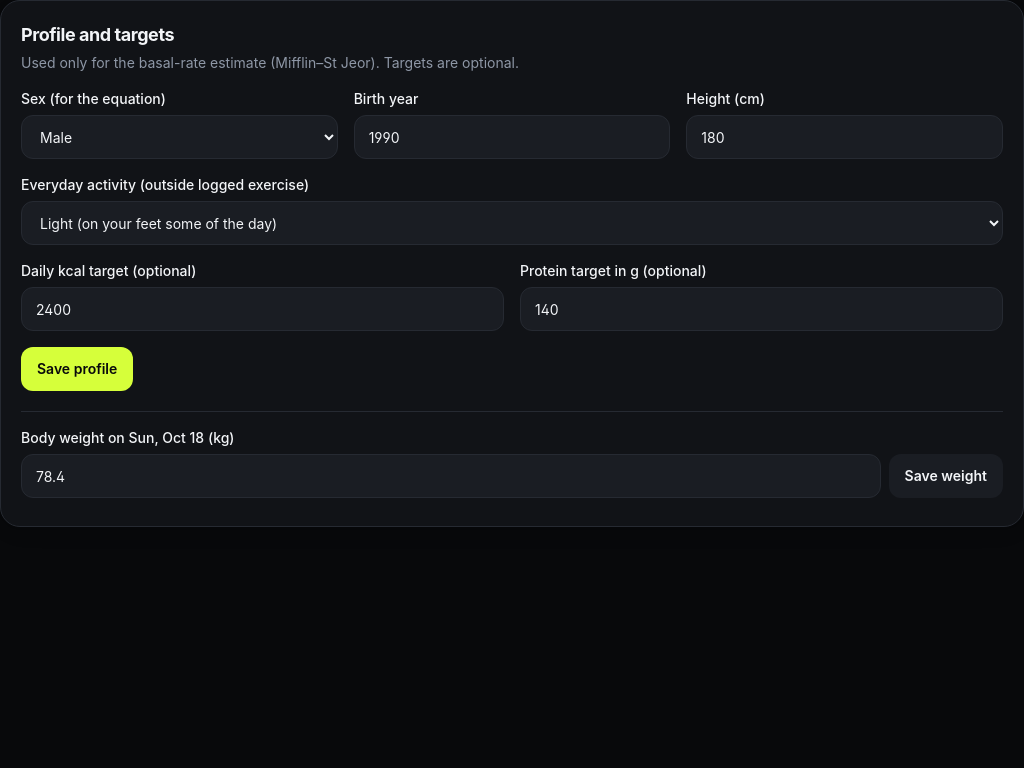
profile form › shows the below-BMR note as information and keeps the target
Replace the text in the field labelled "Daily kcal target (optional)" with "1500" at (262,309), box [21,287,504,331]
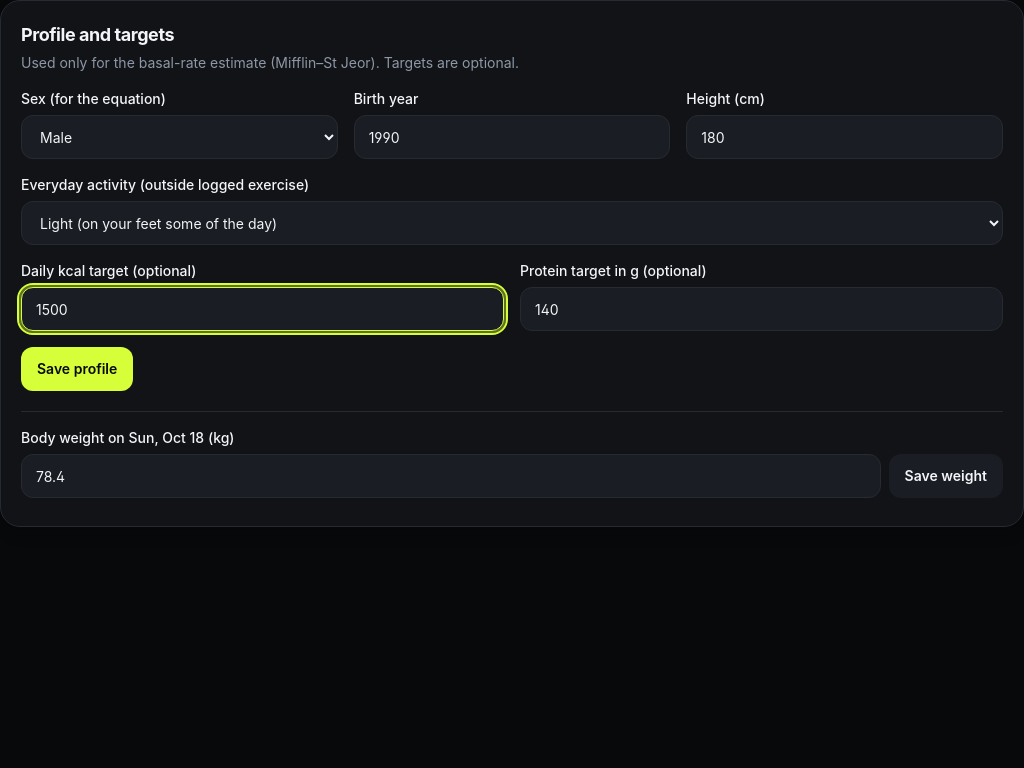
Click the button "Save profile" at (77,369), box [21,347,133,391]
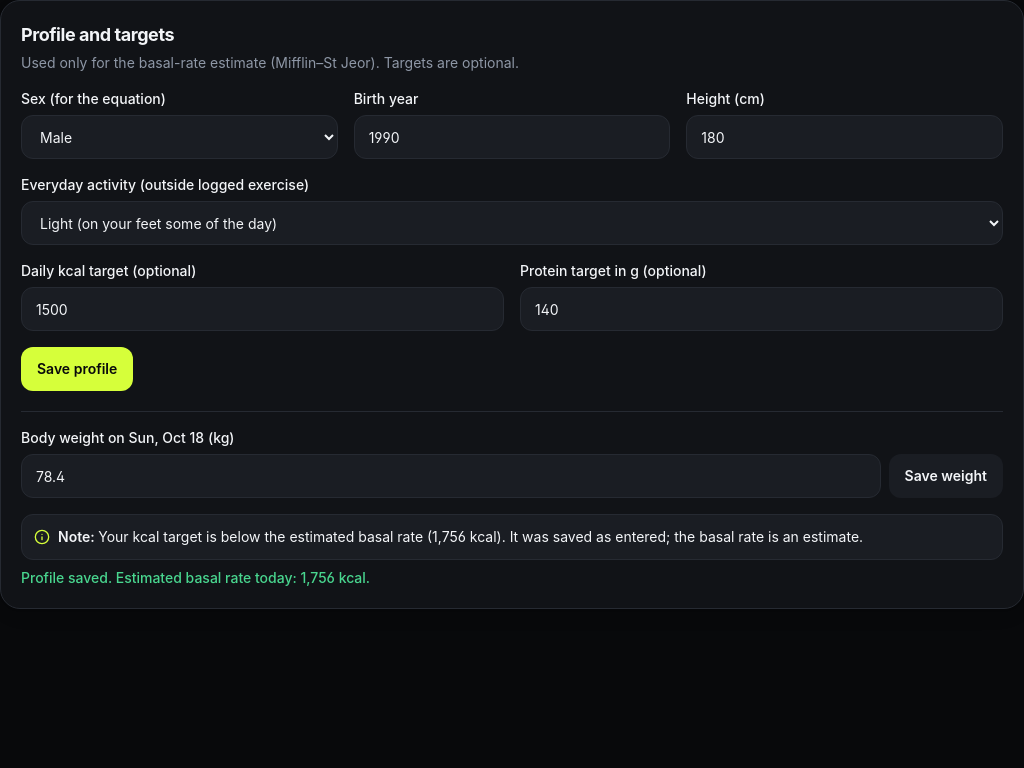
Expected: the element with test id "profile-note" shows "Your kcal target is below the estimated basal rate (1,756 kcal).", [98,528,863,545]
Expected: the element that starts with "Note" is shown, [21,514,1003,560]
Expected: the message shows "Profile saved.", [21,569,370,586]
